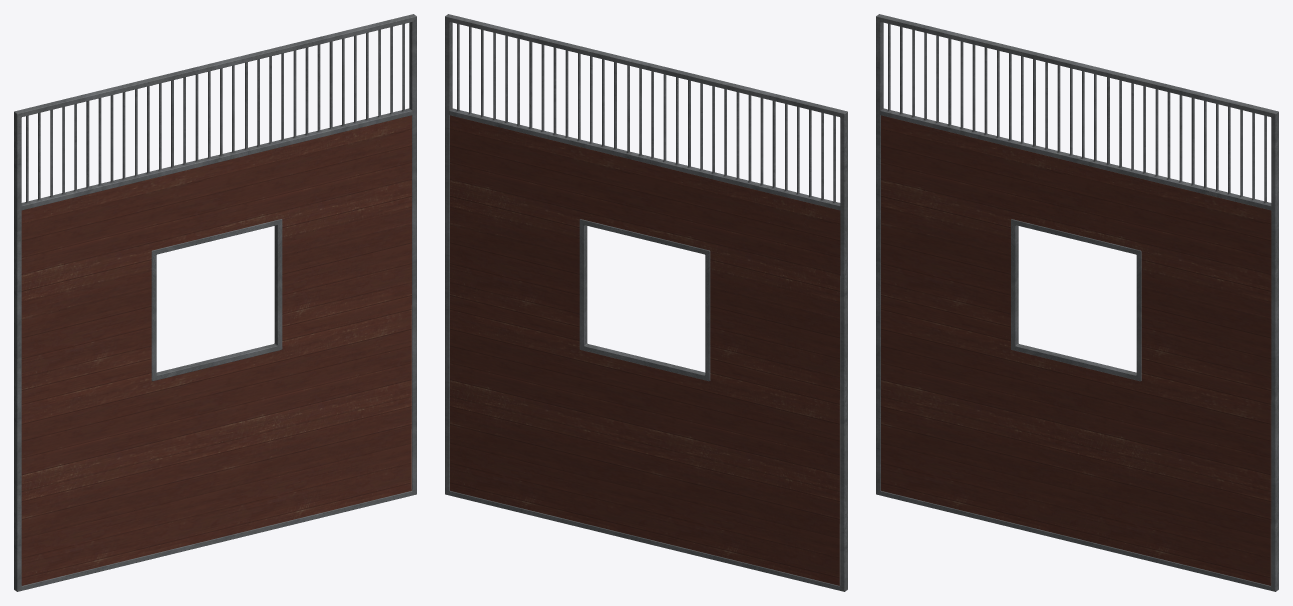
The model's file is Pen_01_Wall_Window.fbx.
3 views of the same model, side by side, from view 1: azimuth 30°, elevation 25°; view 2: azimuth 150°, elevation 25°; view 3: azimuth 330°, elevation 25° (orthographic).
Parts seen in each view (by area): view 1: Pen_01_Wall_Window; view 2: Pen_01_Wall_Window; view 3: Pen_01_Wall_Window.
Part boxes in pixels (x1,y1,x2,y2): Pen_01_Wall_Window: (14,14,416,591); Pen_01_Wall_Window: (445,14,847,591); Pen_01_Wall_Window: (876,14,1278,591).
Size of the model in its own units: 350 by 400 by 5.
